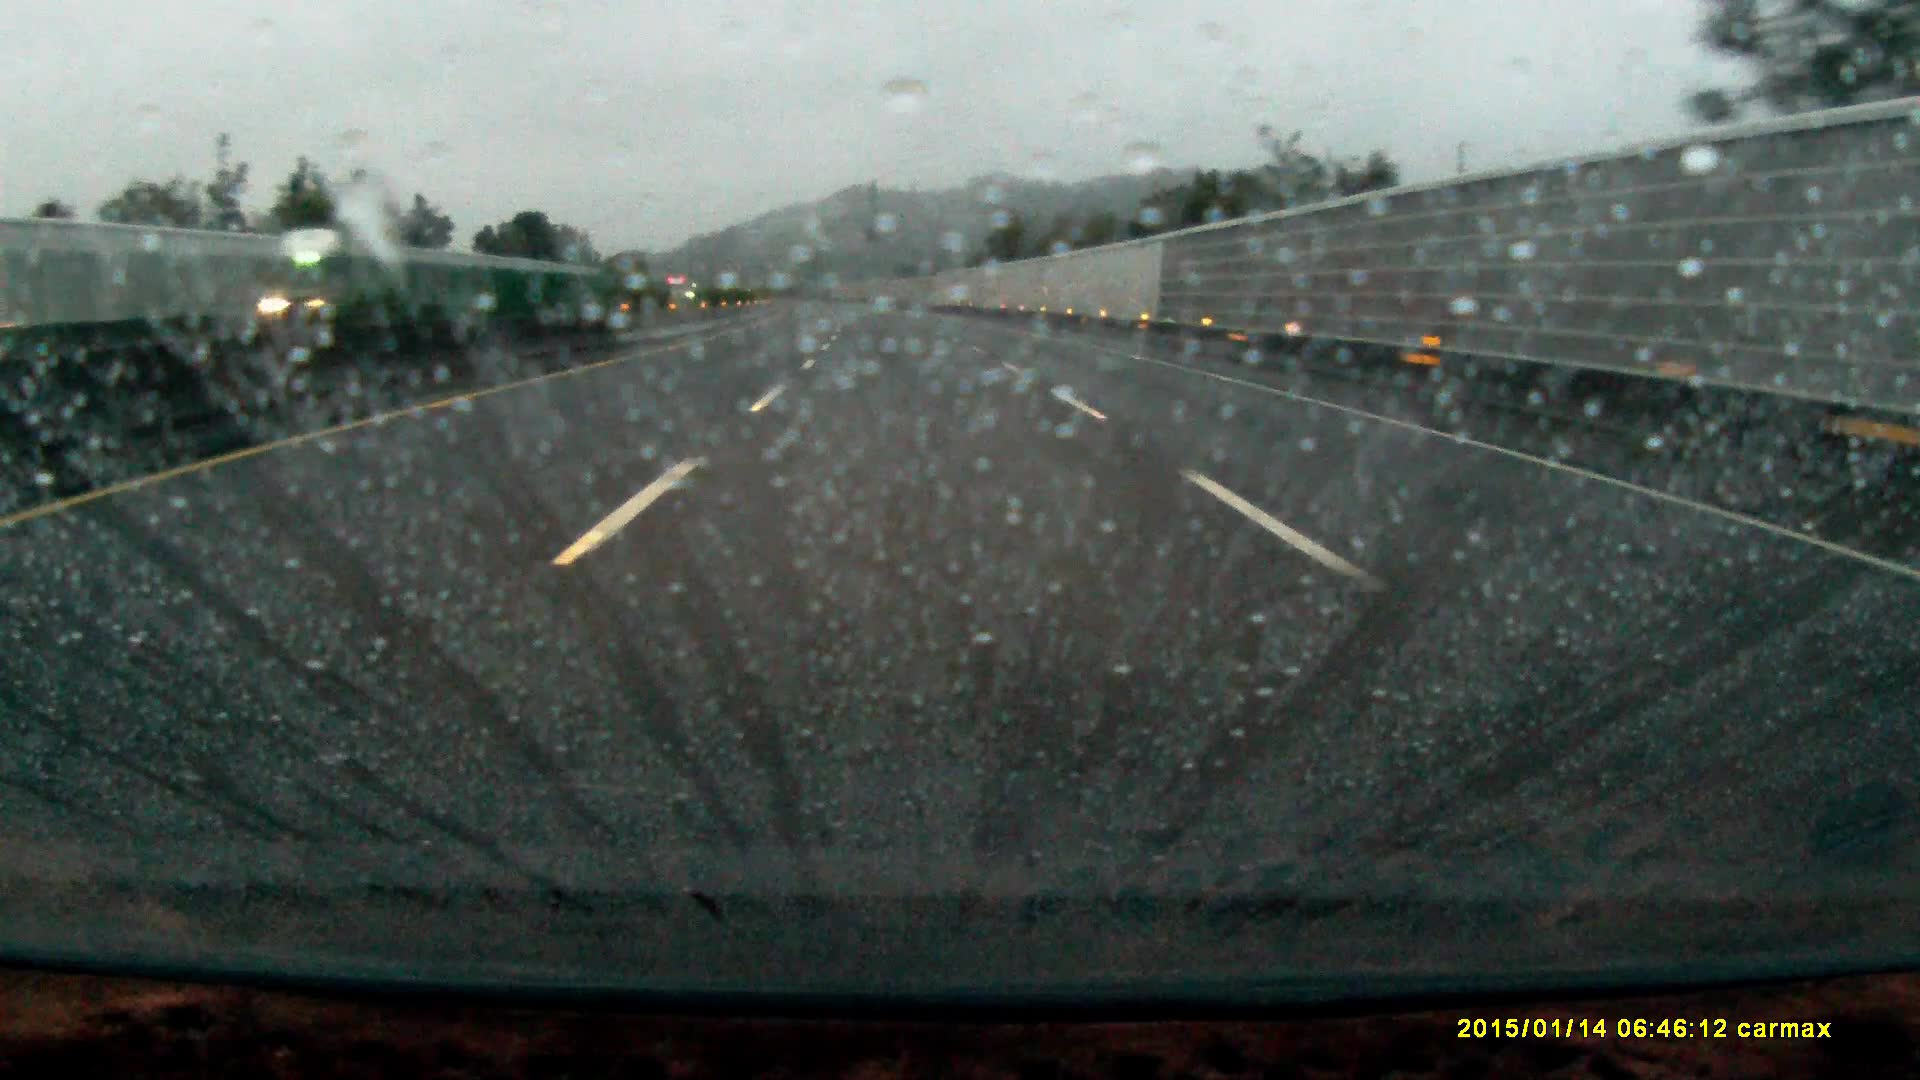vehicle: (268, 225, 401, 327)
